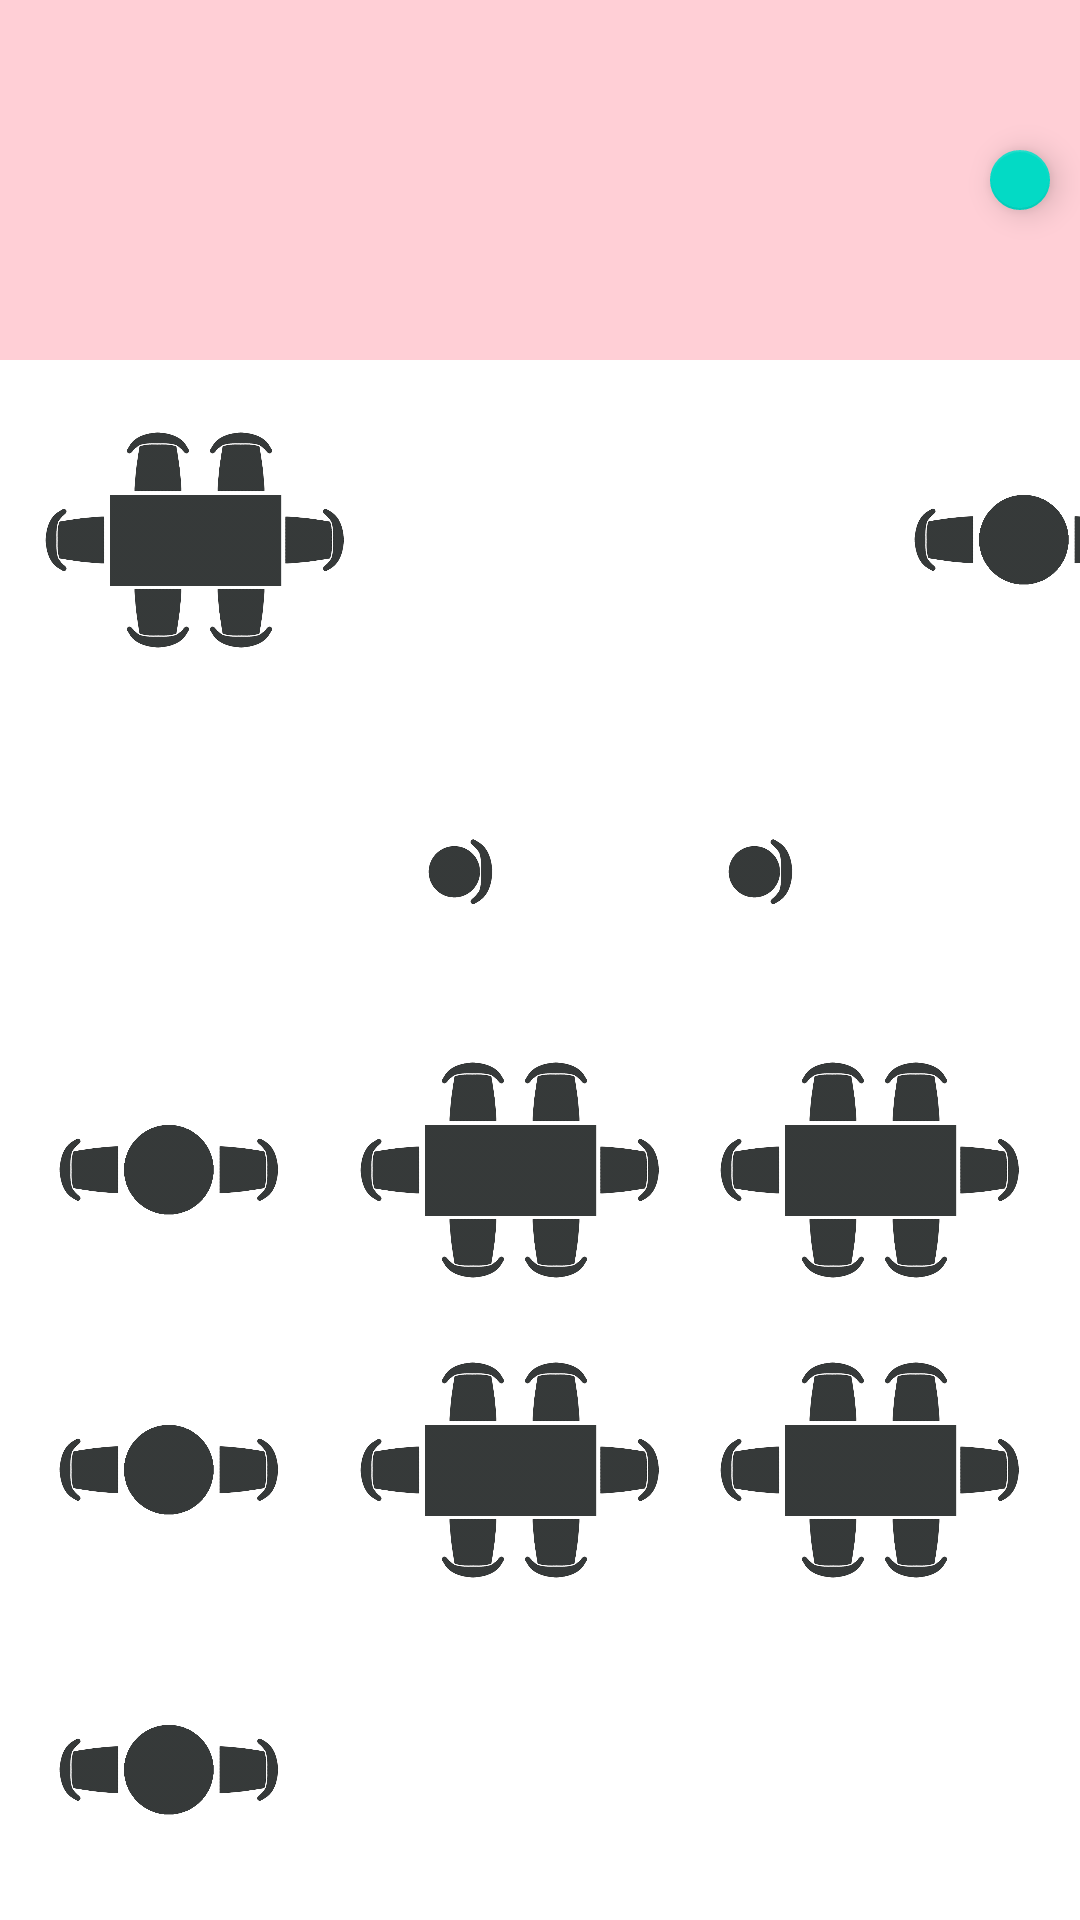

Where icons sit on this 1080px x 1920px app screen, as (x1, y1, x2, y2):
masa dreptunghiulara: (45, 432, 344, 648), (360, 1062, 659, 1278), (720, 1062, 1019, 1278), (360, 1362, 659, 1578), (720, 1362, 1019, 1578)
scaun bar: (428, 839, 492, 904), (728, 839, 792, 904)
